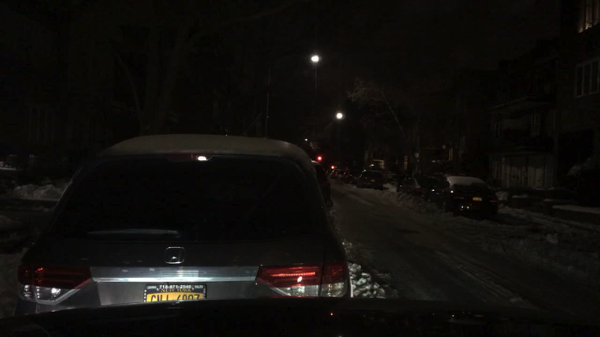car: (12, 132, 350, 317), (427, 175, 499, 220), (307, 160, 334, 209), (395, 175, 436, 198), (356, 169, 384, 191), (343, 171, 357, 183), (338, 169, 348, 179), (352, 175, 362, 184), (329, 169, 336, 179)
traffic light: (316, 154, 323, 162)
